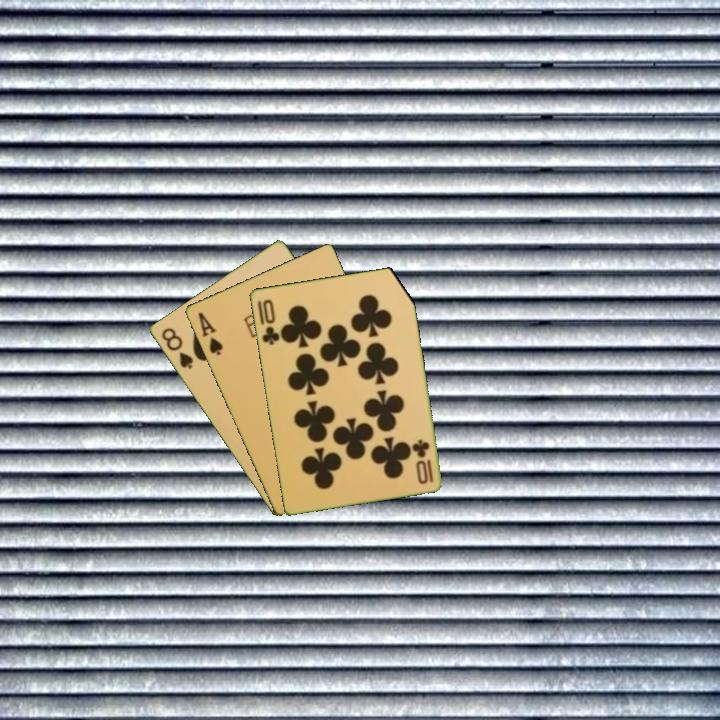10c: (410, 436, 436, 485), (258, 295, 282, 348)
8s: (157, 324, 196, 372)
As: (194, 308, 225, 358)
